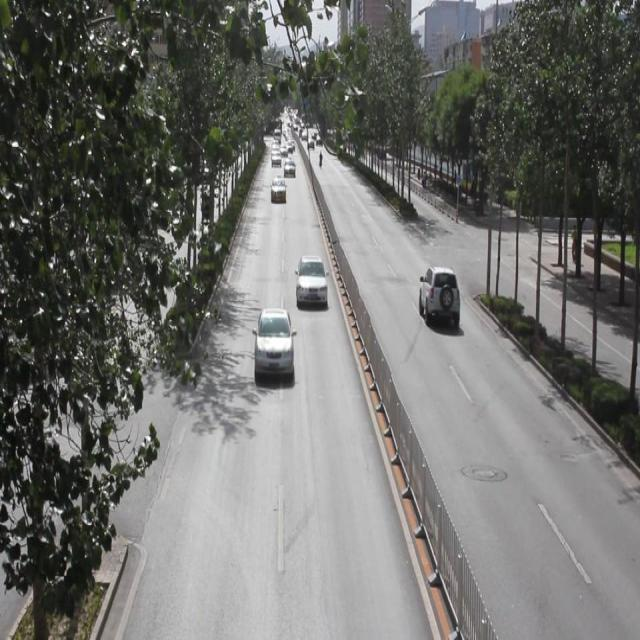car: (254, 306, 292, 382), (419, 266, 460, 328), (294, 254, 327, 309), (270, 177, 285, 203)
